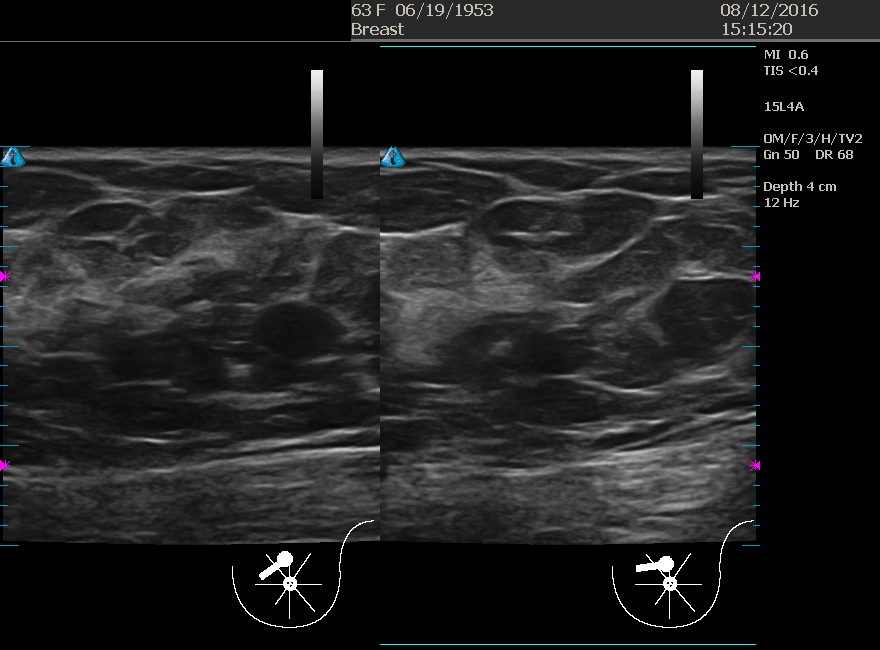BIRADS_3: (28, 149, 221, 341), (469, 161, 661, 353)
